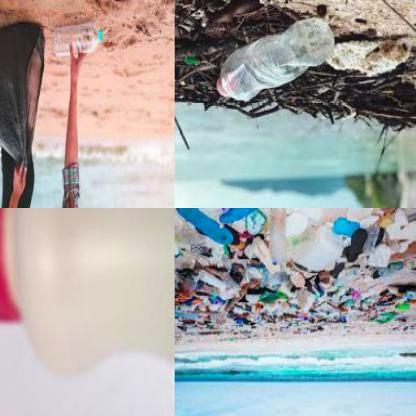Plastic: (214, 16, 335, 99), (48, 21, 105, 56)
